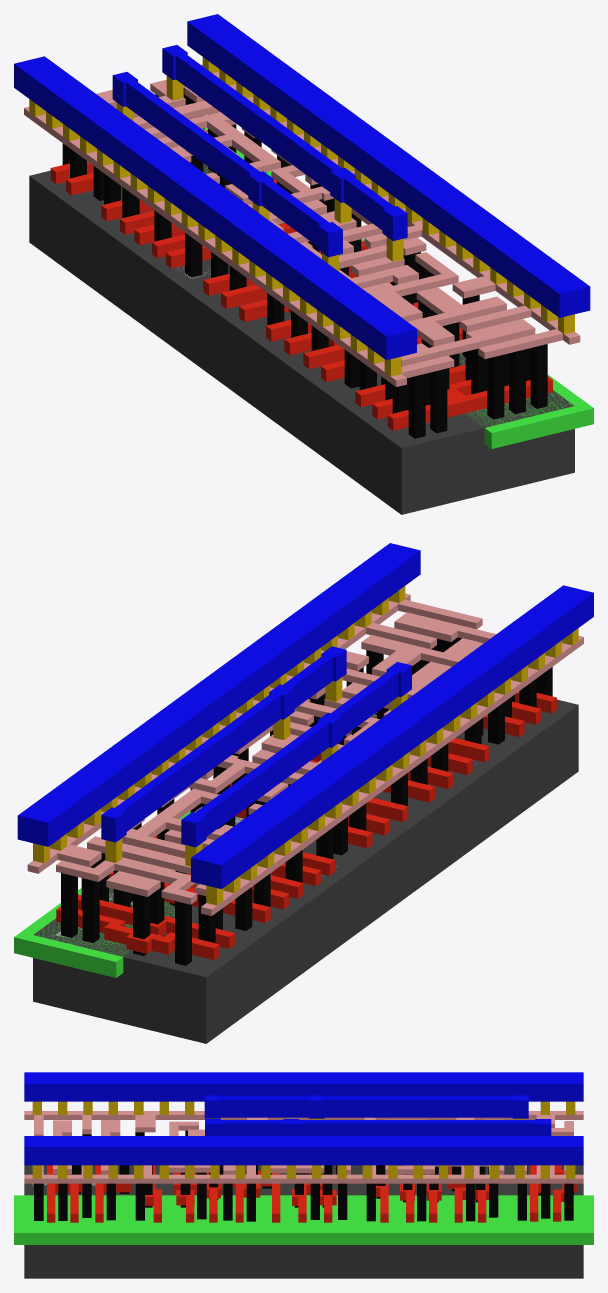
Rendered from sky130_fd_sc_hd__sdfxtp_2.obj.
The picture shows the model from 3 angles, top to bottom: view 1: azimuth 30°, elevation 25°; view 2: azimuth 150°, elevation 25°; view 3: azimuth 270°, elevation 25°; orthographic projection. The views are drawn at different scales.
Parts seen in each view (by area): view 1: metal1, subs, li, licon, poly, mcon, nwell; view 2: metal1, subs, li, licon, poly, mcon, nwell; view 3: metal1, subs, nwell, li, licon, poly, mcon.
Part boxes in pixels (x1,y1,x2,y2): metal1: (14, 14, 590, 360); subs: (29, 163, 574, 514); li: (24, 64, 580, 386); licon: (62, 88, 547, 438); poly: (50, 130, 552, 430); mcon: (29, 57, 574, 376); nwell: (204, 127, 593, 448); metal1: (17, 543, 593, 889); subs: (33, 699, 578, 1043); li: (27, 593, 583, 915); licon: (61, 637, 552, 965); poly: (56, 691, 556, 960); mcon: (33, 586, 578, 905); nwell: (14, 716, 374, 977); metal1: (24, 1072, 583, 1165); subs: (24, 1165, 583, 1278); nwell: (14, 1195, 593, 1244); li: (24, 1111, 583, 1183); licon: (34, 1130, 574, 1221); poly: (47, 1165, 576, 1222); mcon: (32, 1101, 575, 1178).
Bounding box in the file's own units: 3.2 × 2.74 × 10.5.
